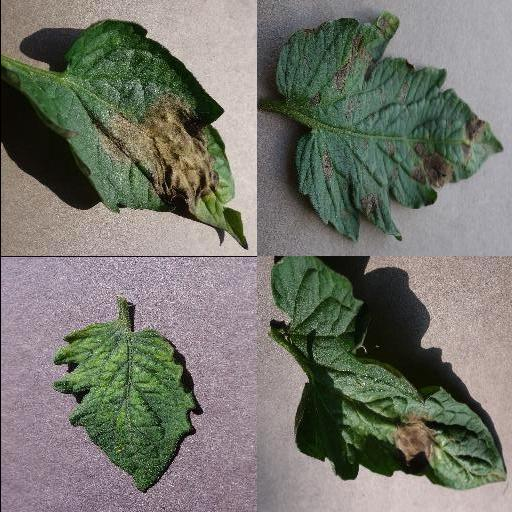Early Blight: (278, 11, 504, 240)
Late Blight: (0, 17, 248, 249), (270, 256, 506, 491)
Mosaic Virus: (49, 321, 195, 493)
